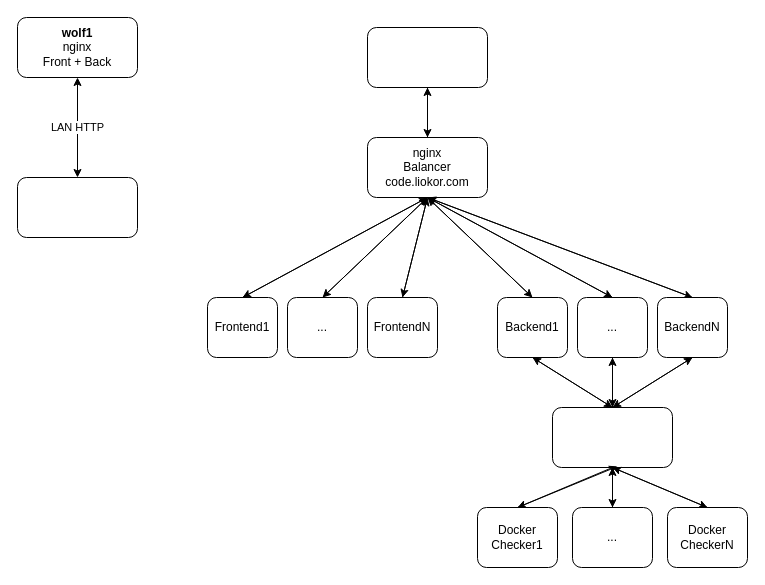
The diagram is 765 pixels wide and 585 high, and some of its shapes have lost their labels. Each missing label, with the box of its shape:
Client: (366, 26, 488, 88)
nginx Checker Balancer: (552, 406, 672, 468)
wolf2 nginx + flask Docker Checker: (16, 176, 138, 238)
